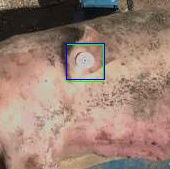text: (66, 44, 103, 81)
